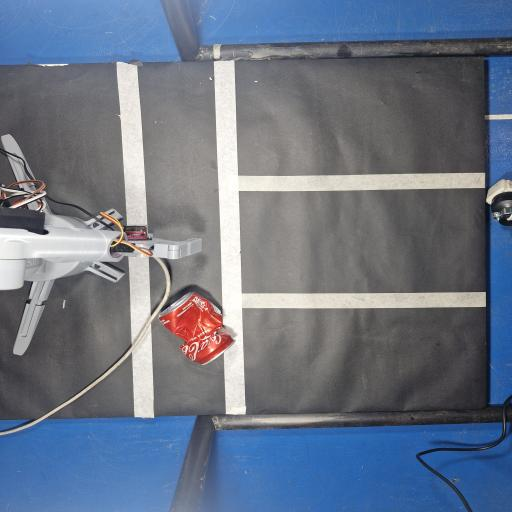lata_defectuoso: (159, 292, 234, 365)
